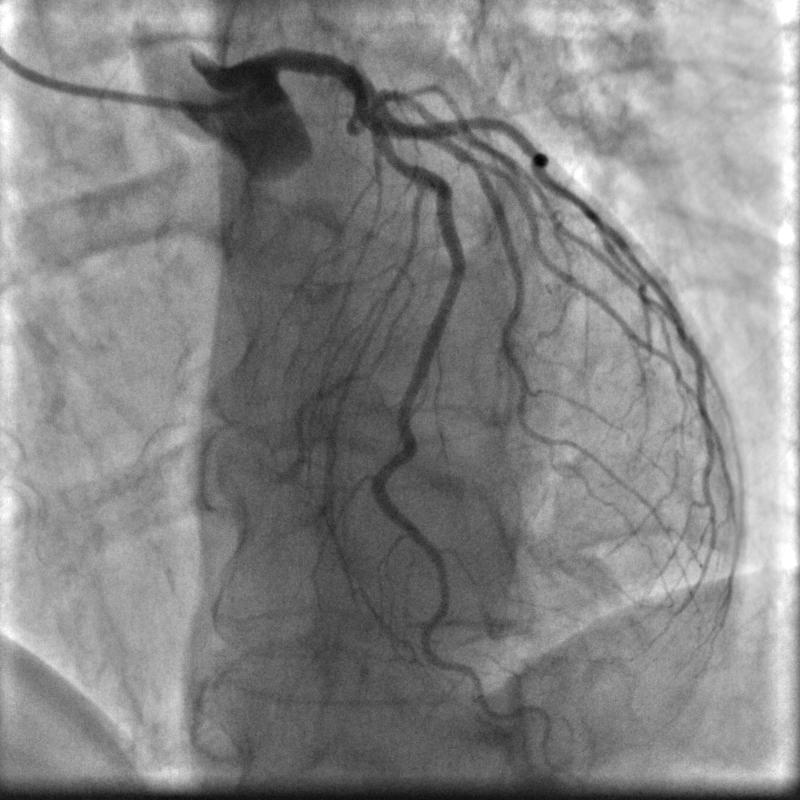Stenosis: (373, 145, 411, 166)
